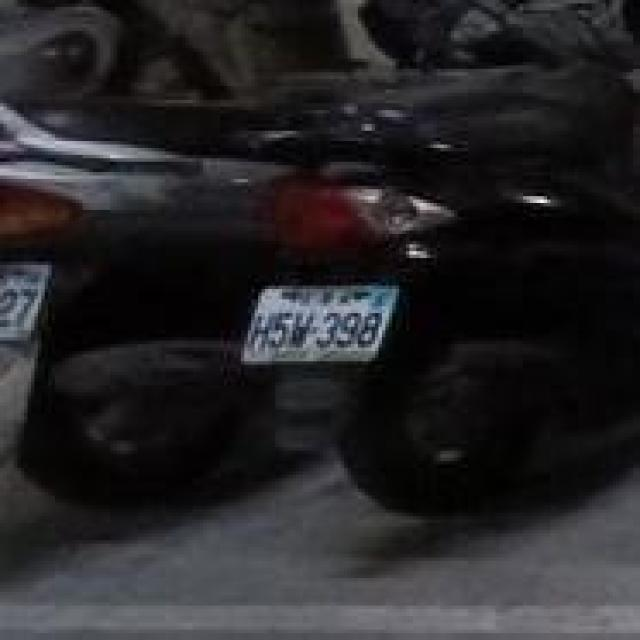W: (238, 258, 410, 385)
